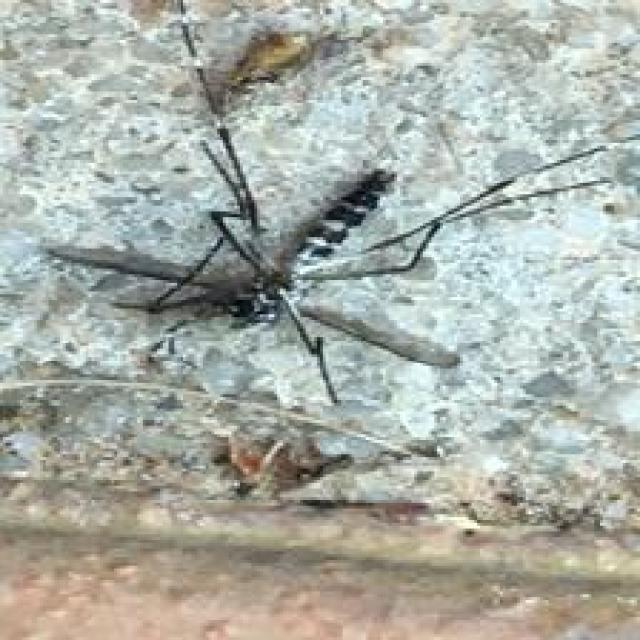Aedes albopictus: (40, 0, 614, 409)
